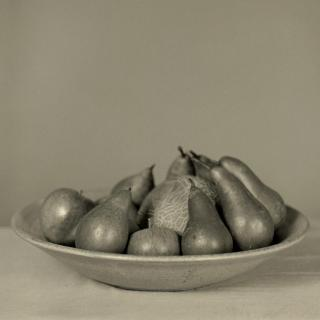Pear: (41, 158, 285, 254), (73, 198, 128, 261)
